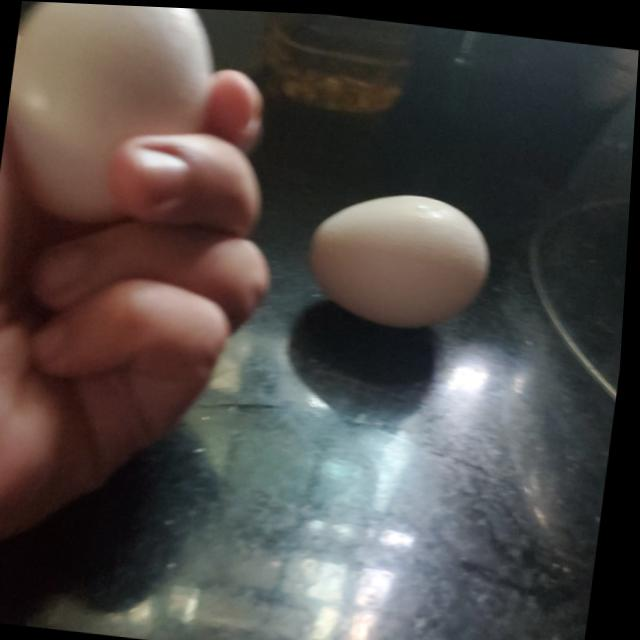egg: (0, 0, 224, 242), (308, 185, 502, 335)
